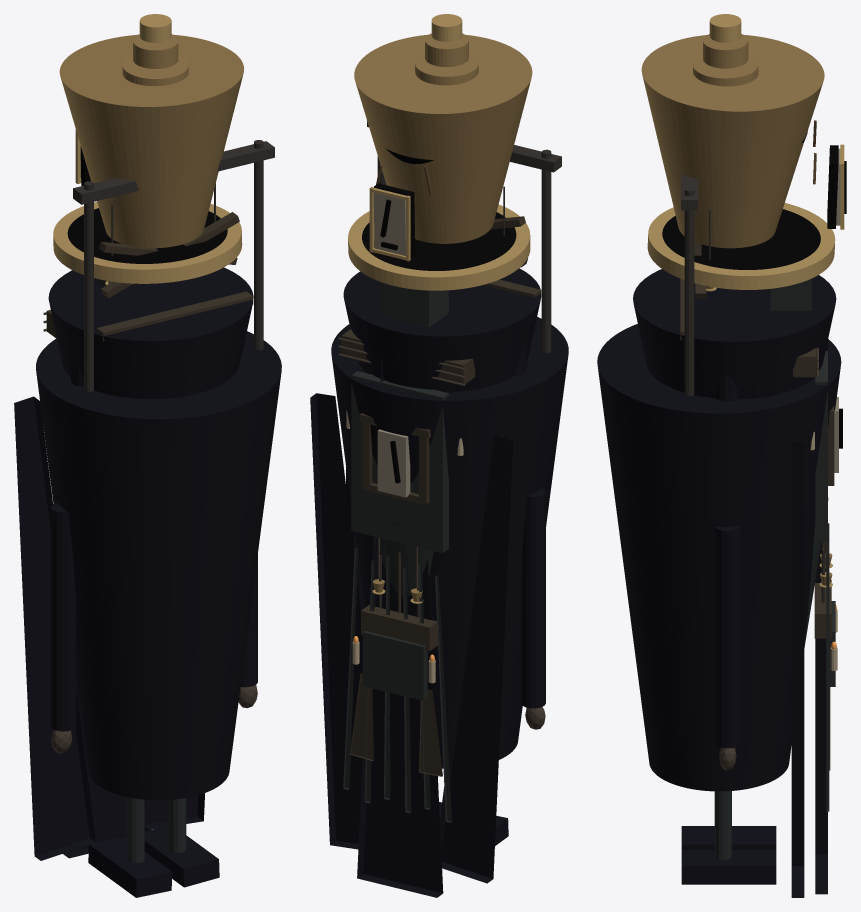
Rendered from bell_saint_v6g_proportion_robe_cleanup.glb.
3 renders of one model, left to right at view 1: azimuth 30°, elevation 25°; view 2: azimuth 150°, elevation 25°; view 3: azimuth 270°, elevation 25°, orthographic. The views are drawn at different scales.
Visible parts, largest first — view 1: BS6G_MainRobe_OnePiece, BS6G_BellHead_Main, BS6G_UpperRobeChest, BS6G_LeftOuterRobeFall, BS6G_LeftForeSleeve, BS6G_BellOuterLip, BS6G_LeftFoot, BS6G_BellInnerLipShadow, BS6G_RightFoot, BS6G_FrontLongRobePanel, BS6G_BackTopCrossbar, BS6G_BackLeftPost (+11 smaller); view 2: BS6G_MainRobe_OnePiece, BS6G_BellHead_Main, BS6G_LeftOuterRobeFall, BS6G_UpperRobeChest, BS6G_RightOuterRobeFall, BS6G_FrontLongRobePanel, BS6G_ChestRobeCover, BS6G_LeftForeSleeve, BS6G_BellOuterLip, BS6G_LowerAltarFront, BS6G_BellInnerLipShadow, BS6G_ThickBlackNeck (+21 smaller); view 3: BS6G_MainRobe_OnePiece, BS6G_BellHead_Main, BS6G_UpperRobeChest, BS6G_RightOuterRobeFall, BS6G_RightForeSleeve, BS6G_BellOuterLip, BS6G_BellInnerLipShadow, BS6G_FrontLongRobePanel, BS6G_RightFoot, BS6G_BackRightPost, BS6G_LeftFoot, BS6G_ChestRobeCover (+11 smaller).
Part boxes in pixels (bbox=[...]): BS6G_MainRobe_OnePiece: bbox=[36, 331, 281, 800]; BS6G_BellHead_Main: bbox=[59, 34, 243, 248]; BS6G_UpperRobeChest: bbox=[48, 267, 253, 399]; BS6G_LeftOuterRobeFall: bbox=[14, 396, 95, 860]; BS6G_LeftForeSleeve: bbox=[51, 503, 76, 731]; BS6G_BellOuterLip: bbox=[53, 202, 242, 283]; BS6G_LeftFoot: bbox=[88, 837, 172, 897]; BS6G_BellInnerLipShadow: bbox=[67, 208, 227, 263]; BS6G_RightFoot: bbox=[144, 825, 219, 887]; BS6G_FrontLongRobePanel: bbox=[63, 681, 151, 858]; BS6G_BackTopCrossbar: bbox=[73, 141, 274, 204]; BS6G_BackLeftPost: bbox=[84, 181, 93, 391]; BS6G_MainRobe_OnePiece: bbox=[331, 316, 568, 768]; BS6G_BellHead_Main: bbox=[354, 34, 532, 243]; BS6G_LeftOuterRobeFall: bbox=[440, 435, 513, 883]; BS6G_UpperRobeChest: bbox=[343, 268, 541, 392]; BS6G_RightOuterRobeFall: bbox=[310, 393, 362, 849]; BS6G_FrontLongRobePanel: bbox=[357, 356, 443, 897]; BS6G_ChestRobeCover: bbox=[351, 371, 448, 553]; BS6G_LeftForeSleeve: bbox=[521, 488, 545, 708]; BS6G_BellOuterLip: bbox=[348, 204, 530, 290]; BS6G_LowerAltarFront: bbox=[362, 631, 427, 700]; BS6G_BellInnerLipShadow: bbox=[362, 212, 516, 270]; BS6G_ThickBlackNeck: bbox=[381, 282, 448, 327]; BS6G_MainRobe_OnePiece: bbox=[597, 324, 841, 791]; BS6G_BellHead_Main: bbox=[641, 34, 824, 248]; BS6G_UpperRobeChest: bbox=[633, 269, 836, 399]; BS6G_RightOuterRobeFall: bbox=[791, 442, 804, 897]; BS6G_RightForeSleeve: bbox=[715, 526, 740, 748]; BS6G_BellOuterLip: bbox=[647, 203, 835, 289]; BS6G_BellInnerLipShadow: bbox=[662, 209, 820, 269]; BS6G_FrontLongRobePanel: bbox=[815, 340, 827, 894]; BS6G_RightFoot: bbox=[681, 850, 776, 884]; BS6G_BackRightPost: bbox=[684, 187, 694, 395]; BS6G_LeftFoot: bbox=[681, 826, 776, 849]; BS6G_ChestRobeCover: bbox=[815, 351, 827, 541].
Size of the model in its own units: 1.08 by 4.17 by 1.1.
